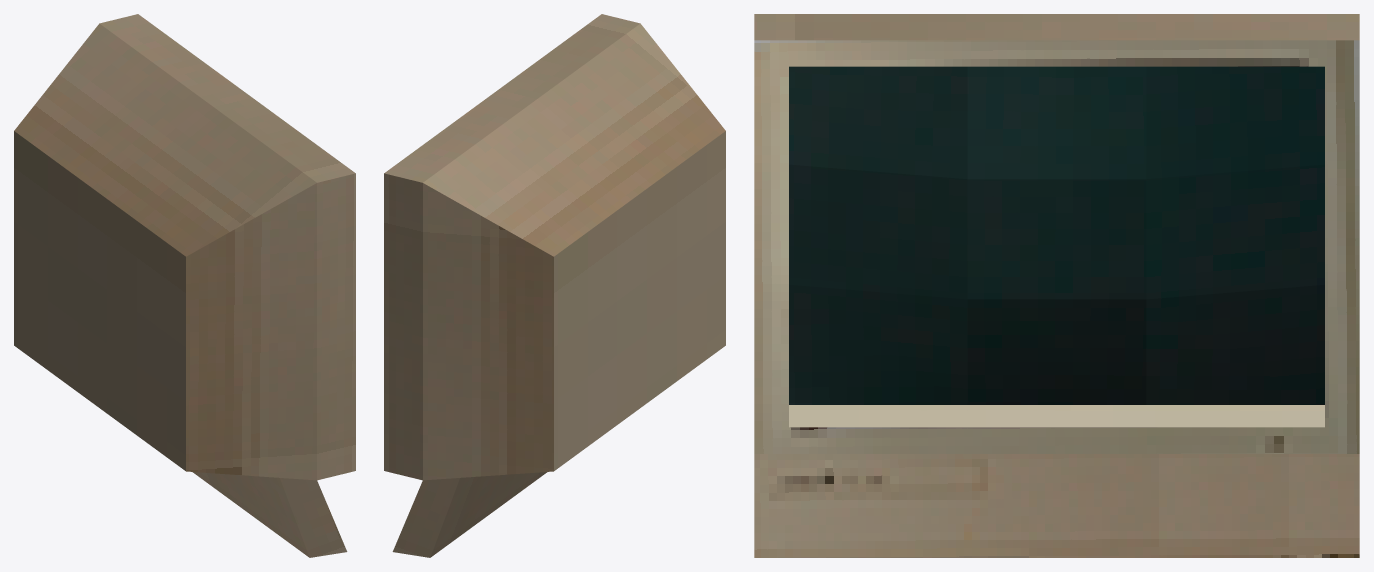
File: bigcomputar.glb
3 views of the same model, side by side, from view 1: azimuth 30°, elevation 25°; view 2: azimuth 150°, elevation 25°; view 3: azimuth 270°, elevation 25° (orthographic). The views are drawn at different scales.
Parts seen in each view (by area): view 1: Cube.004; view 2: Cube.004; view 3: Cube.004.
Boxes of the visible parts, box(x1,y1,x2,y2) form: Cube.004: box(14, 14, 355, 557); Cube.004: box(384, 14, 725, 557); Cube.004: box(754, 14, 1359, 557).
Bounding box in the file's own units: 0.9191 × 2.27 × 2.36.
1 material, 1 textured.
